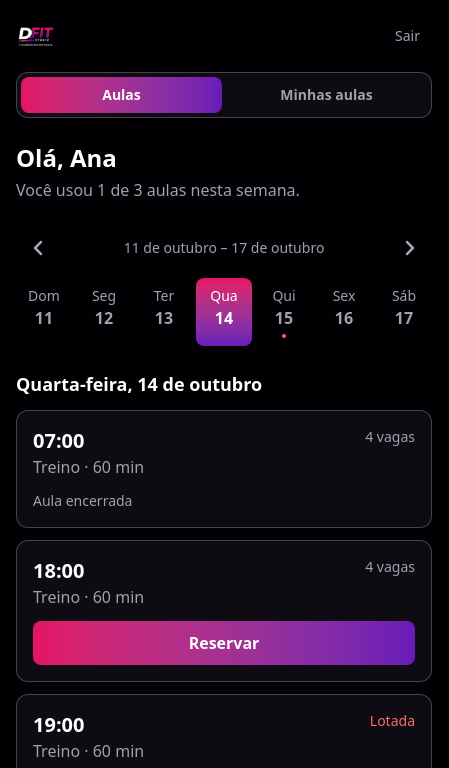
Scenario: week view › explains a failed booking and refreshes the list
Expected: the text "18:00" is shown, [33, 557, 84, 584]
Step 1. Click the button "Reservar" → (224, 643), box [33, 621, 415, 665]
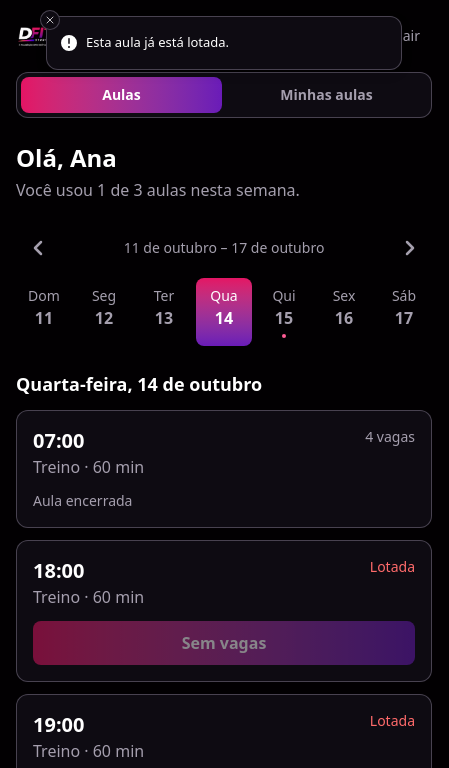
Result: the text "Esta aula já está lotada." is shown at [86, 33, 229, 52]
